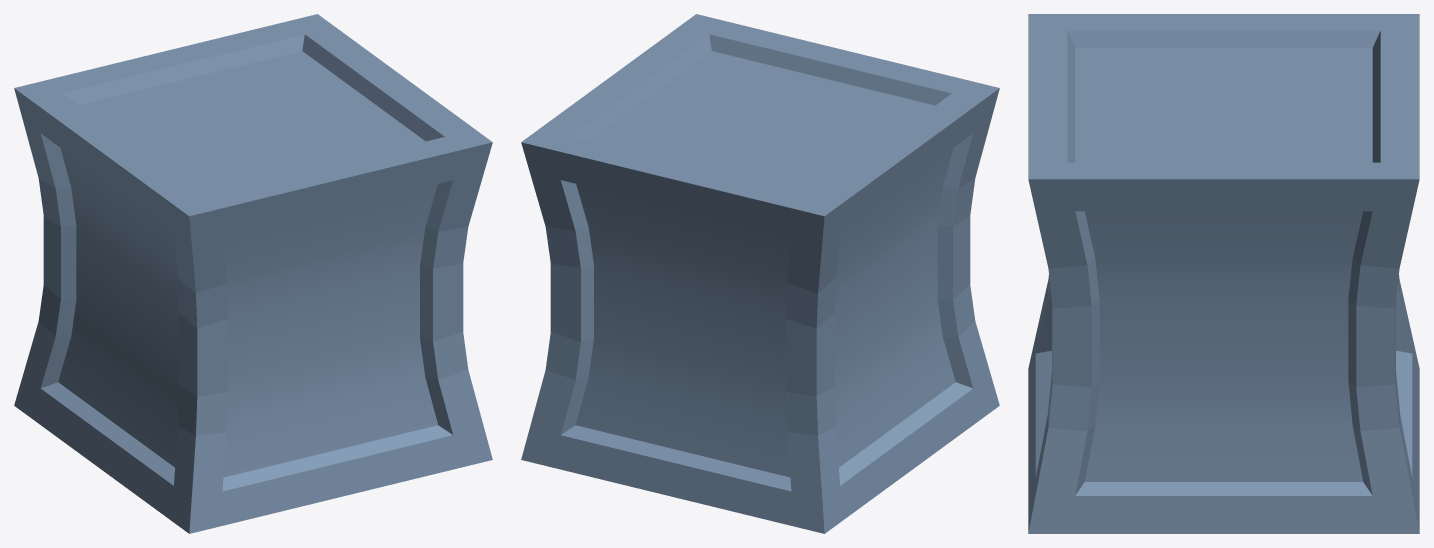
The model's file is rcCrateSquished.FBX.
The picture shows the model from 3 angles, left to right: view 1: azimuth 30°, elevation 25°; view 2: azimuth 150°, elevation 25°; view 3: azimuth 270°, elevation 25°; orthographic projection. The views are drawn at different scales.
Visible parts, largest first — view 1: crateCubeSquished; view 2: crateCubeSquished; view 3: crateCubeSquished.
Part boxes in pixels (x1,y1,x2,y2): crateCubeSquished: (14,14,492,533); crateCubeSquished: (521,14,999,533); crateCubeSquished: (1028,14,1419,533).
Bounding box in the file's own units: 0.5 × 0.5 × 0.5.
